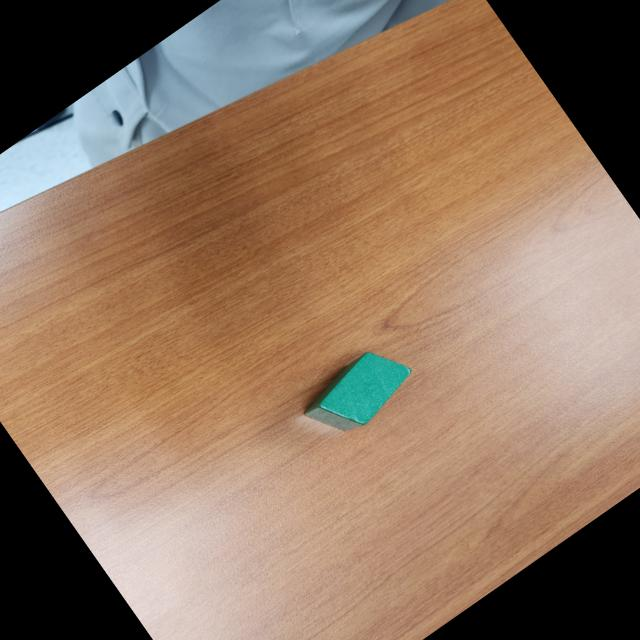green: (292, 334, 423, 452)
